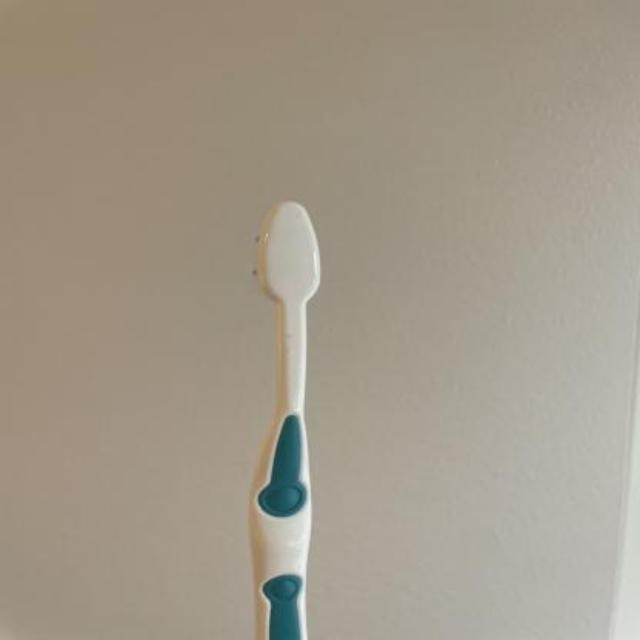toothbrush: (240, 192, 332, 640)
